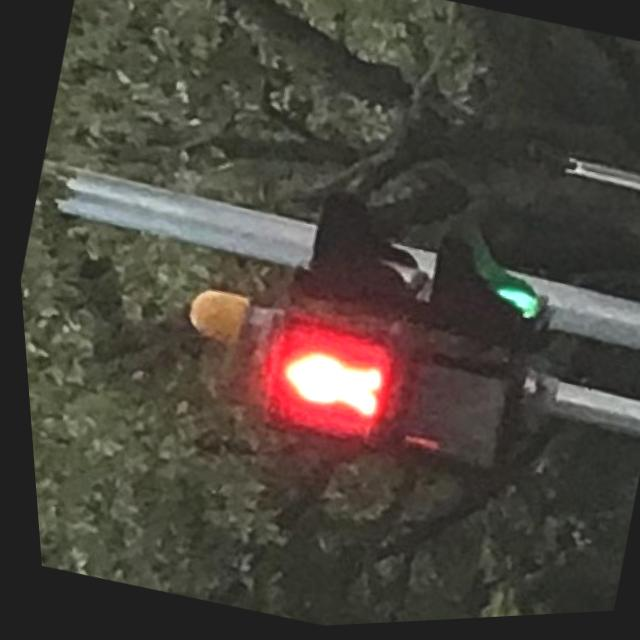red_light: (248, 313, 397, 448)
